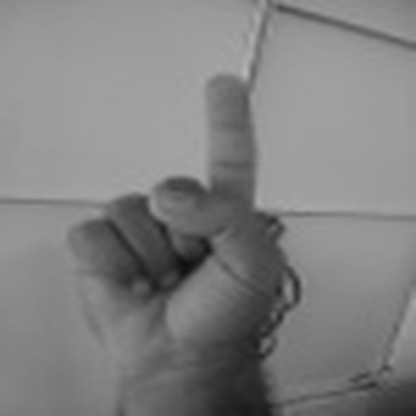d: (55, 65, 266, 367)
